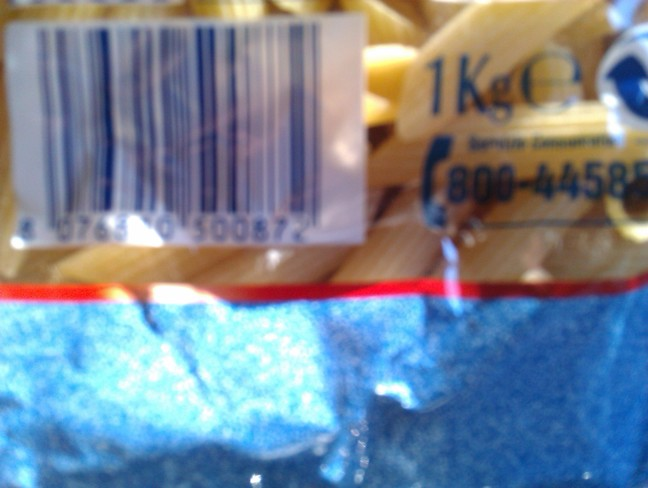barcode: (9, 19, 337, 254)
